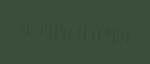eight: (59, 18, 72, 43)
four: (101, 21, 114, 46)
nine: (17, 15, 30, 40), (45, 17, 58, 42)
three: (31, 16, 44, 41), (115, 22, 128, 47)
zero: (73, 19, 86, 44), (87, 20, 100, 45)
